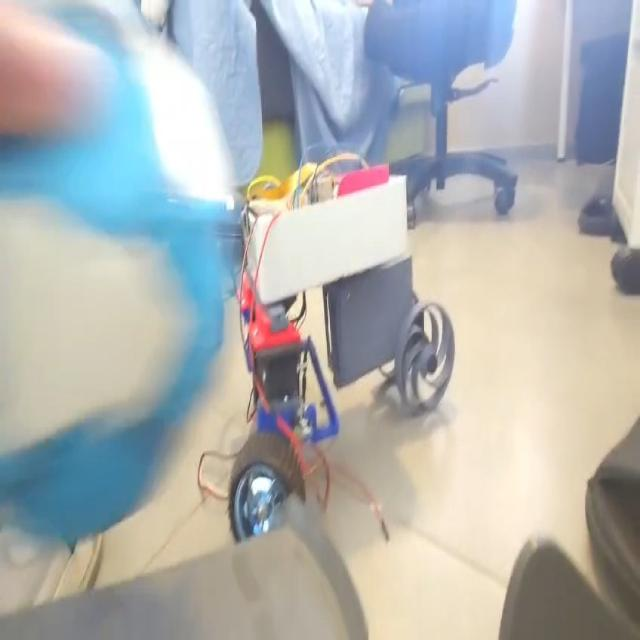Robot: (226, 165, 457, 544)
